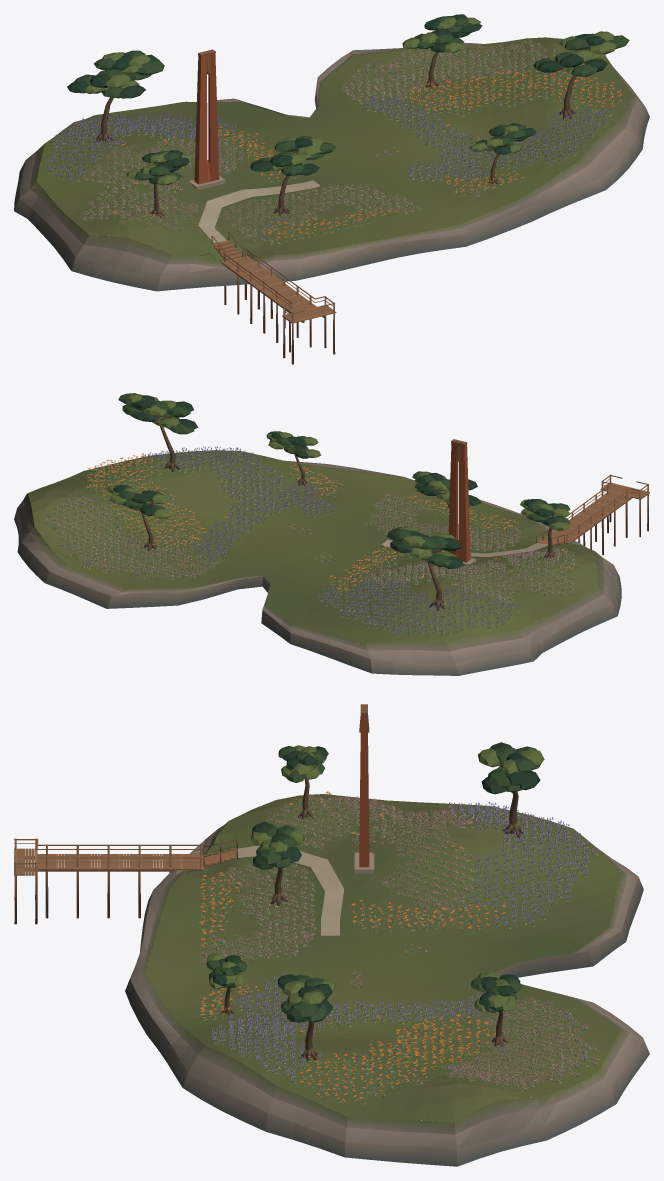
Rendered from fieldnotes-coast.glb.
The picture shows the model from 3 angles, top to bottom: view 1: azimuth 30°, elevation 25°; view 2: azimuth 150°, elevation 25°; view 3: azimuth 270°, elevation 25°; orthographic projection. The views are drawn at different scales.
Visible parts, largest first — view 1: Fieldnotes_LandSurface, Fieldnotes_CoastalDrifts, Fieldnotes_BluffAndWaterline, Fieldnotes_Cypress, Fieldnotes_Pier, Fieldnotes_SignalBlade, Fieldnotes_WestSpur; view 2: Fieldnotes_LandSurface, Fieldnotes_CoastalDrifts, Fieldnotes_BluffAndWaterline, Fieldnotes_Cypress, Fieldnotes_Pier, Fieldnotes_SignalBlade, Fieldnotes_WestSpur; view 3: Fieldnotes_LandSurface, Fieldnotes_CoastalDrifts, Fieldnotes_BluffAndWaterline, Fieldnotes_Cypress, Fieldnotes_Pier, Fieldnotes_WestSpur, Fieldnotes_SignalBlade.
Part boxes in pixels (bbox=[...]): Fieldnotes_LandSurface: bbox=[36, 37, 631, 262]; Fieldnotes_CoastalDrifts: bbox=[44, 37, 622, 246]; Fieldnotes_BluffAndWaterline: bbox=[14, 43, 649, 291]; Fieldnotes_Cypress: bbox=[67, 14, 629, 217]; Fieldnotes_Pier: bbox=[211, 232, 336, 364]; Fieldnotes_SignalBlade: bbox=[189, 49, 225, 189]; Fieldnotes_WestSpur: bbox=[198, 180, 320, 242]; Fieldnotes_LandSurface: bbox=[27, 450, 597, 643]; Fieldnotes_CoastalDrifts: bbox=[43, 446, 581, 638]; Fieldnotes_BluffAndWaterline: bbox=[14, 460, 621, 675]; Fieldnotes_Cypress: bbox=[107, 393, 570, 610]; Fieldnotes_Pier: bbox=[536, 474, 649, 555]; Fieldnotes_SignalBlade: bbox=[448, 439, 476, 564]; Fieldnotes_WestSpur: bbox=[381, 539, 548, 557]; Fieldnotes_LandSurface: bbox=[146, 794, 620, 1122]; Fieldnotes_CoastalDrifts: bbox=[198, 791, 599, 1106]; Fieldnotes_BluffAndWaterline: bbox=[125, 810, 649, 1166]; Fieldnotes_Cypress: bbox=[206, 742, 544, 1061]; Fieldnotes_Pier: bbox=[14, 838, 237, 924]; Fieldnotes_WestSpur: bbox=[238, 845, 344, 935]; Fieldnotes_SignalBlade: bbox=[354, 704, 374, 873].
Bounding box in the file's own units: 69.82 × 21.04 × 53.55.
